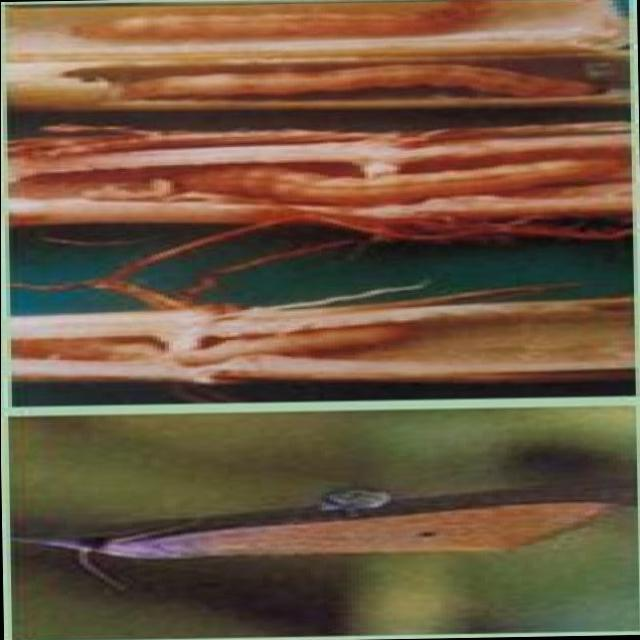stem borer: (8, 122, 630, 238), (13, 270, 632, 382), (6, 0, 625, 110), (138, 503, 600, 554)
